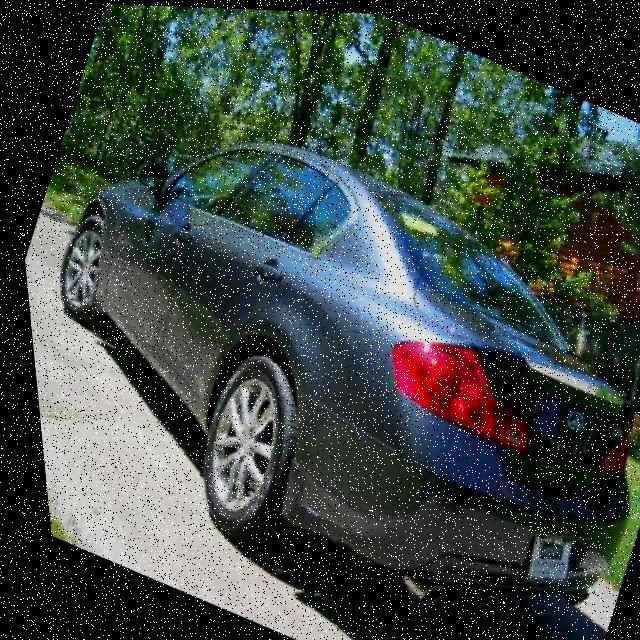license_plate: (505, 519, 574, 594)
